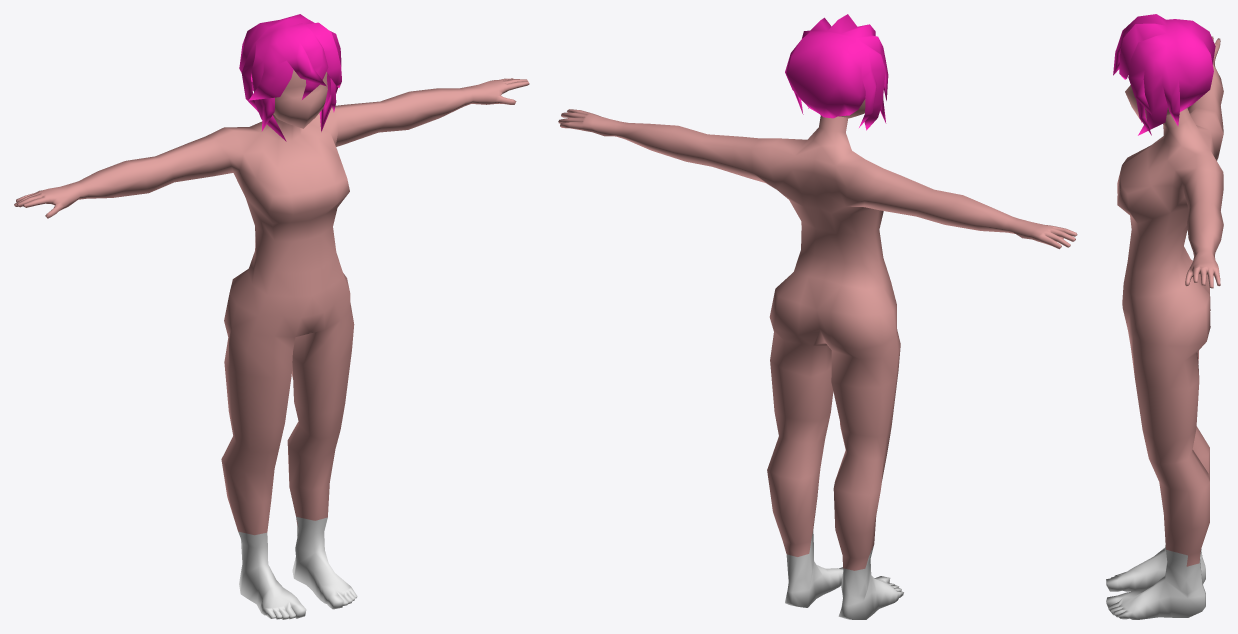
The model's file is miku decked.fbx.
The picture shows the model from 3 angles, left to right: view 1: azimuth 30°, elevation 25°; view 2: azimuth 150°, elevation 25°; view 3: azimuth 270°, elevation 25°; orthographic projection.
Parts seen in each view (by area): view 1: bod, hair, bod.001; view 2: bod, hair; view 3: bod, hair, bod.001.
Part boxes in pixels (x1,y1,x2,y2): bod: [14, 78, 529, 619]; hair: [239, 14, 341, 141]; bod.001: [273, 70, 327, 128]; bod: [558, 109, 1077, 619]; hair: [785, 14, 888, 130]; bod: [1106, 36, 1223, 619]; hair: [1113, 14, 1215, 135]; bod.001: [1125, 85, 1170, 121].
Size of the model in its own units: 1457 by 1565 by 289.
